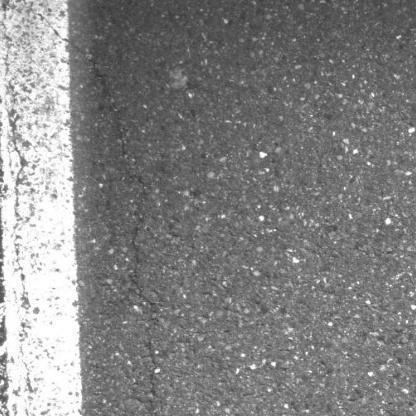Cracks: (68, 43, 132, 165), (129, 334, 172, 416), (128, 221, 159, 311), (134, 174, 150, 192)
